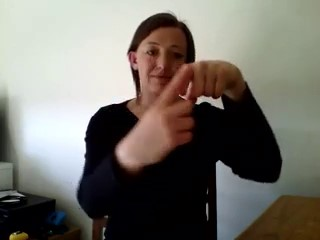K: (124, 51, 238, 163)
